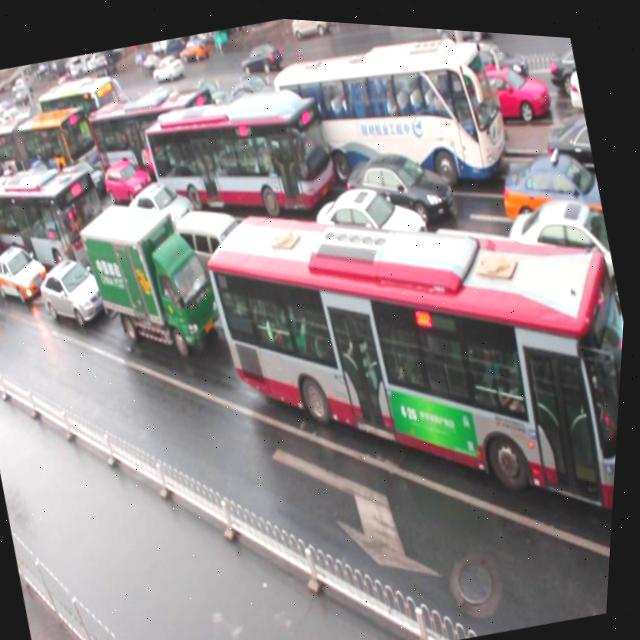bus: (70, 180, 232, 374)
car: (497, 176, 630, 324), (265, 213, 401, 341), (308, 165, 438, 279), (491, 132, 614, 251), (337, 130, 461, 238), (94, 210, 182, 299), (35, 247, 115, 332), (122, 168, 204, 248), (536, 103, 605, 197), (0, 231, 58, 308), (100, 150, 159, 210), (56, 157, 113, 213)
truck: (408, 192, 585, 382), (170, 194, 275, 310)
van: (187, 124, 635, 583), (263, 14, 519, 220), (137, 67, 348, 243), (82, 76, 232, 205), (0, 153, 126, 303), (0, 101, 105, 194), (0, 189, 12, 296)
